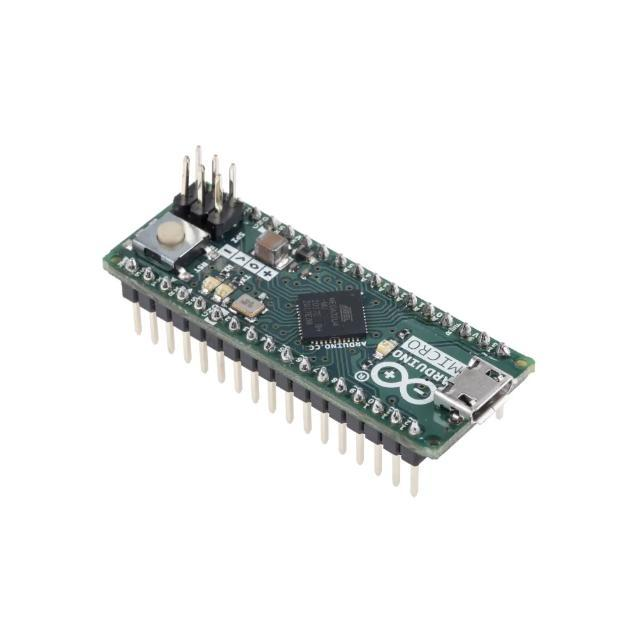Arduino-Micro: (106, 169, 535, 466)
